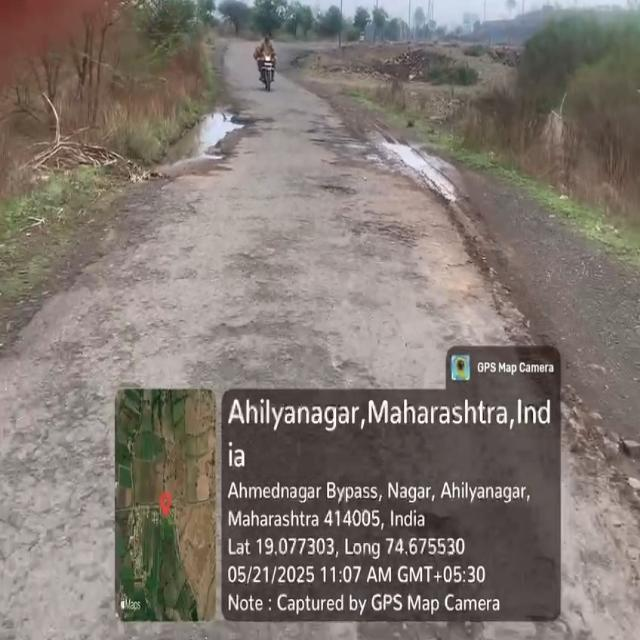damage surface: (40, 216, 140, 477), (205, 251, 377, 394)
pothole: (363, 132, 460, 212), (158, 96, 245, 174)
